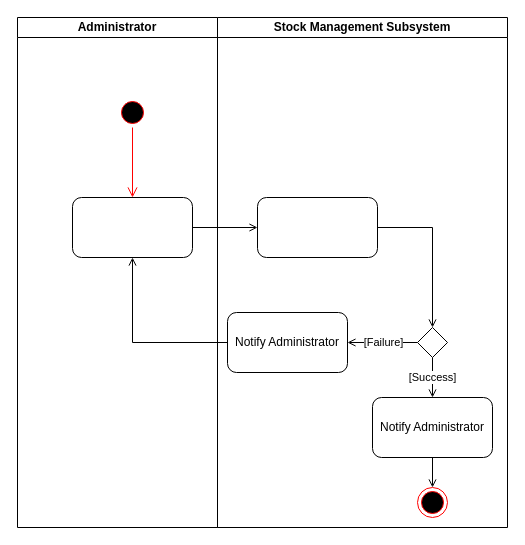
The diagram is 525 pixels wide and 545 high, and some of its shapes have lost their labels. The centre of each missing label's shape, as x and y in pixels:
"Input New Stock" goes at point (132, 227).
"Modify Stock Levels" goes at point (317, 227).
